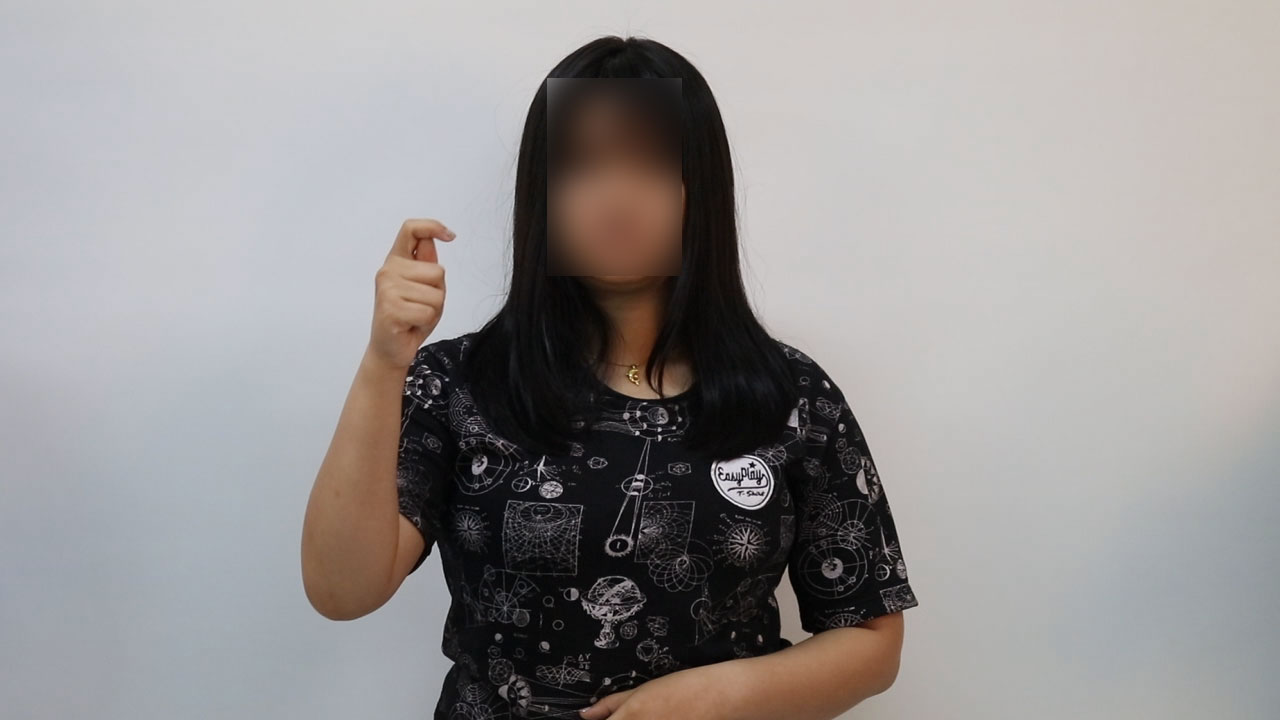or: (362, 208, 464, 374)
